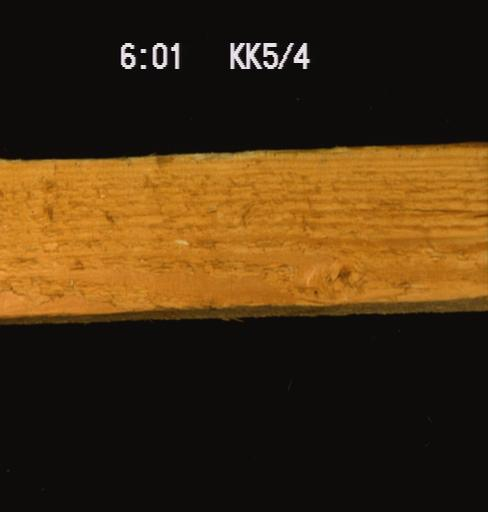small_knot: (326, 258, 372, 294)
